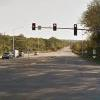Traffic light: (29, 15, 84, 39)
